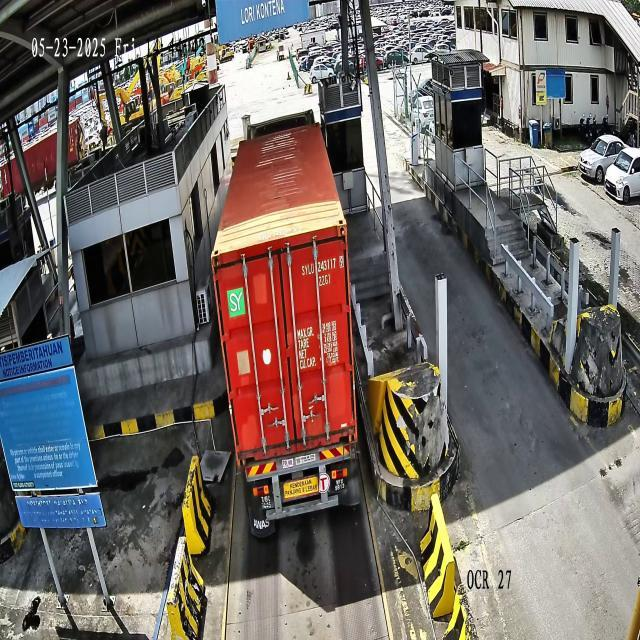ISO: (318, 272, 332, 286)
container_number: (300, 255, 344, 278)
